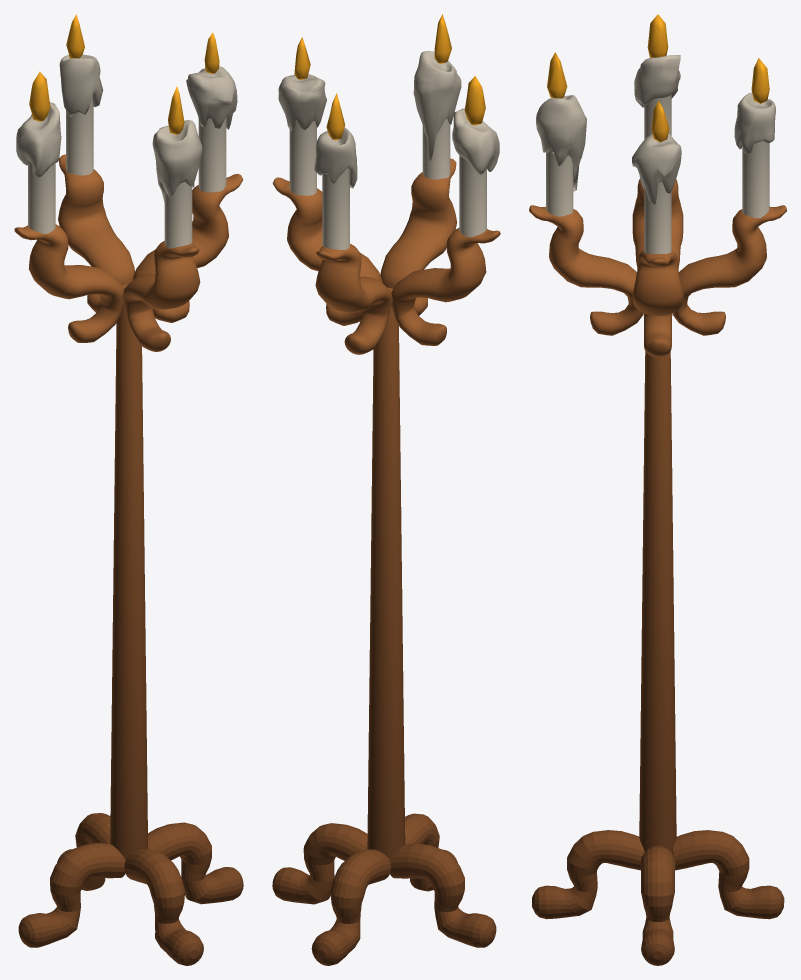
The model's file is Kynttilä DANIEL.fbx.
3 views of the same model, side by side, from view 1: azimuth 30°, elevation 25°; view 2: azimuth 150°, elevation 25°; view 3: azimuth 270°, elevation 25° (orthographic).
Parts seen in each view (by area): view 1: pCylinder1, Support_Left, Support_Back, Jalka_Left, Support_Front, Jalka_Front, Jalka_Right, Support_Right, Candle_Deform_Front, Candle_Deform_Right, Candle_Deform_Left, Candle_Deform_Back (+8 smaller); view 2: pCylinder1, Support_Left, Support_Front, Jalka_Left, Support_Back, Jalka_Back, Jalka_Right, Support_Right, Candle_Deform_Front, Candle_Deform_Right, Candle_Back, Candle_Deform_Left (+8 smaller); view 3: pCylinder1, Support_Front, Support_Back, Jalka_Back, Jalka_Front, Support_Right, Jalka_Right, Candle_Deform_Front, Candle_Deform_Right, Candle_Back, Candle_Deform_Back, Candle_Deform_Left (+7 smaller).
Boxes of the visible parts, x1,y1,x2,y2 form: pCylinder1: (110,284,148,859); Support_Left: (14,224,123,342); Support_Back: (58,154,134,312); Jalka_Left: (18,843,125,947); Support_Front: (122,241,200,351); Jalka_Front: (124,848,203,965); Jalka_Right: (148,822,243,904); Support_Right: (132,174,242,322); Candle_Deform_Front: (152,120,202,202); Candle_Deform_Right: (186,66,237,129); Candle_Deform_Left: (16,102,61,177); Candle_Deform_Back: (59,54,103,117); pCylinder1: (367,287,405,860); Support_Left: (391,228,500,345); Support_Front: (380,158,456,315); Jalka_Left: (389,843,496,947); Support_Back: (315,243,392,354); Jalka_Back: (311,849,390,965); Jalka_Right: (272,823,367,904); Support_Right: (272,177,382,325); Candle_Deform_Front: (413,51,461,160); Candle_Deform_Right: (278,74,326,130); Candle_Back: (322,168,349,250); Candle_Deform_Left: (452,108,499,174); pCylinder1: (639,351,676,851); Support_Front: (529,205,643,335); Support_Back: (672,205,786,335); Jalka_Back: (671,830,784,919); Jalka_Front: (532,830,644,919); Support_Right: (632,250,683,356); Jalka_Right: (640,845,675,965); Candle_Deform_Front: (536,95,586,191); Candle_Deform_Right: (632,133,681,204); Candle_Back: (742,141,769,218); Candle_Deform_Back: (734,92,775,153); Candle_Deform_Left: (634,55,680,107).
Bounding box in the file's own units: 0.7538 × 2.8 × 0.7594.
